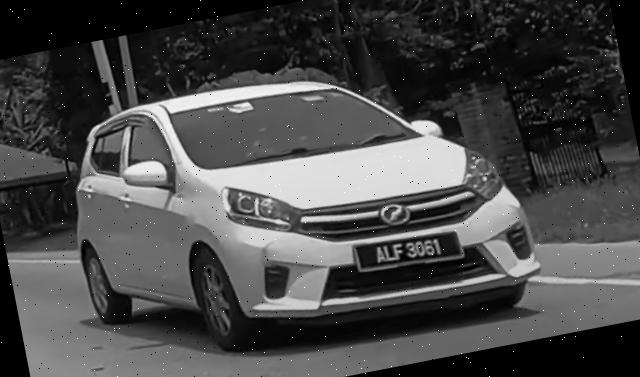License_Plate: (350, 223, 466, 279)
car: (53, 33, 548, 377)
